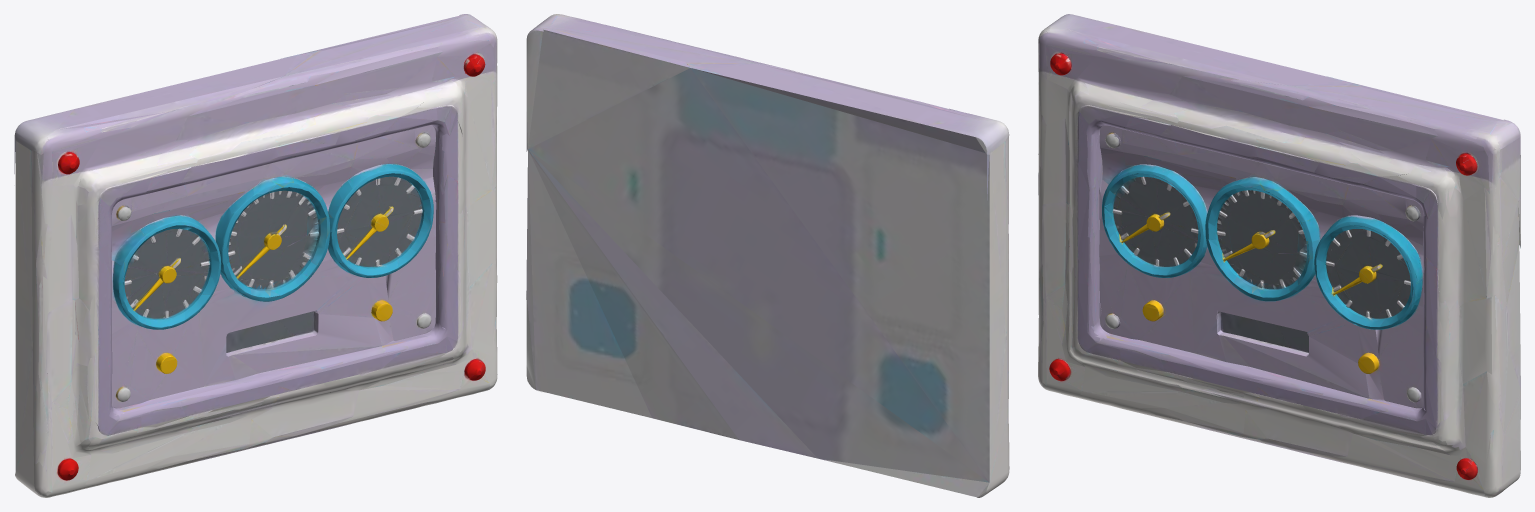
File: gauge-panel.gltf
The picture shows the model from 3 angles, left to right: view 1: azimuth 30°, elevation 25°; view 2: azimuth 150°, elevation 25°; view 3: azimuth 330°, elevation 25°; orthographic projection.
Size of the model in its own units: 1.9 by 1.43 by 0.2406.
1 material, 1 textured.
